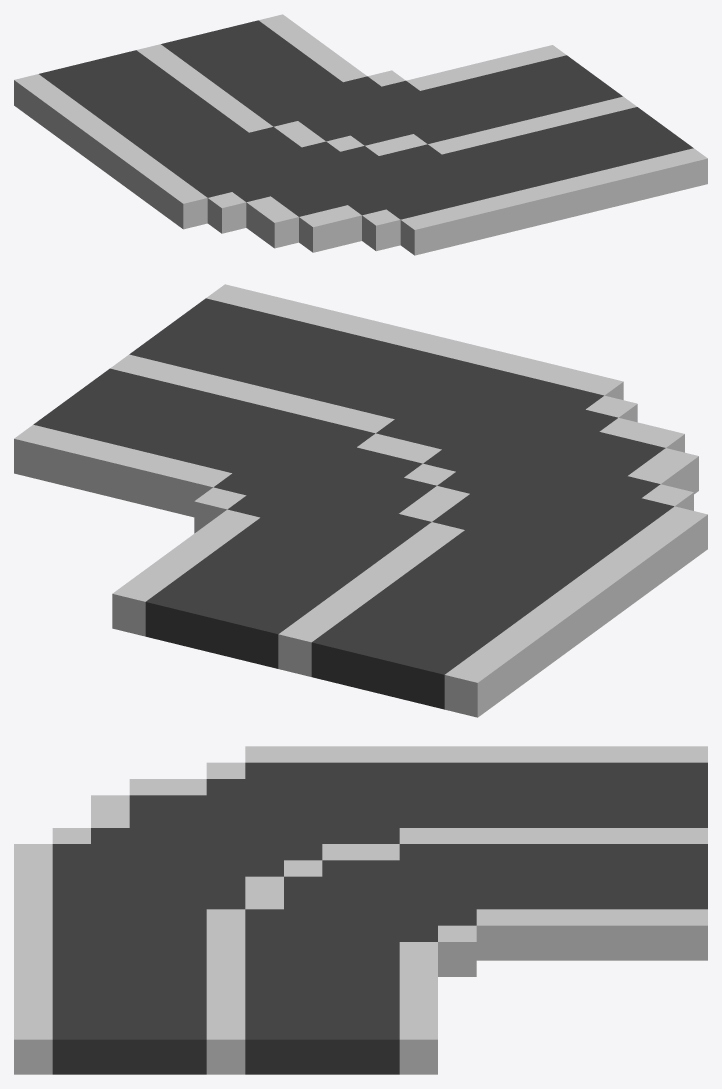
Rendered from straßeKurve.obj.
The picture shows the model from 3 angles, top to bottom: view 1: azimuth 30°, elevation 25°; view 2: azimuth 150°, elevation 25°; view 3: azimuth 270°, elevation 25°; orthographic projection. The views are drawn at different scales.
Bounding box in the file's own units: 3.6 × 0.2 × 3.6.
Materials: 1 (1 with a texture image).
